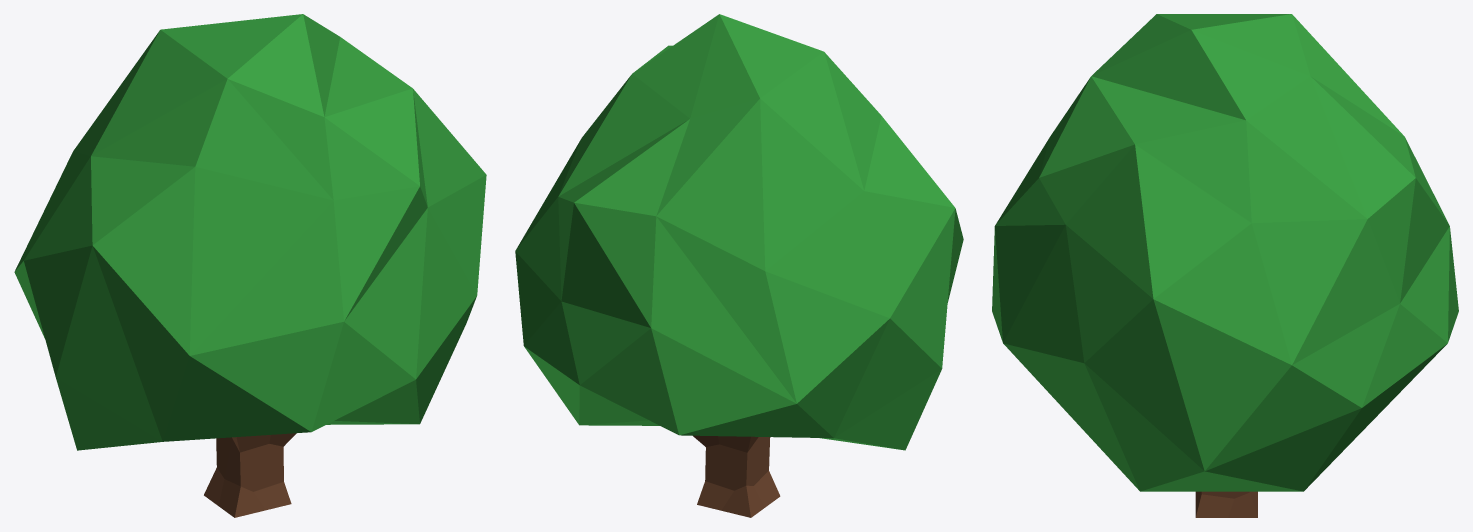
The model's file is Tree_15_Green.fbx.
3 views of the same model, side by side, from view 1: azimuth 30°, elevation 25°; view 2: azimuth 150°, elevation 25°; view 3: azimuth 270°, elevation 25° (orthographic). The views are drawn at different scales.
Visible parts, largest first — view 1: Tree_15_Part_1, Tree_15_Part_2; view 2: Tree_15_Part_1, Tree_15_Part_2; view 3: Tree_15_Part_1, Tree_15_Part_2.
Part boxes in pixels (<box>): Tree_15_Part_1: <box>14,14,486,450</box>; Tree_15_Part_2: <box>204,433,296,517</box>; Tree_15_Part_1: <box>515,14,963,450</box>; Tree_15_Part_2: <box>693,435,780,517</box>; Tree_15_Part_1: <box>992,14,1458,491</box>; Tree_15_Part_2: <box>1195,491,1257,517</box>.
Bounding box in the file's own units: 691 × 786 × 675.
